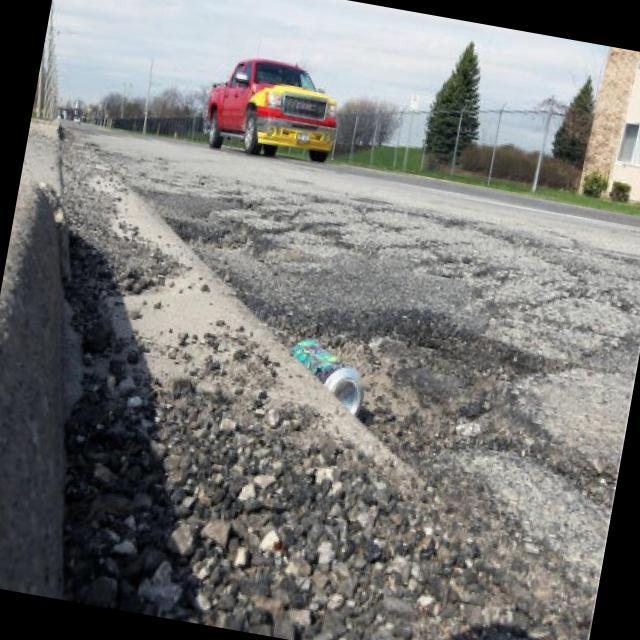Pothole: (243, 292, 550, 473), (175, 221, 271, 255)
